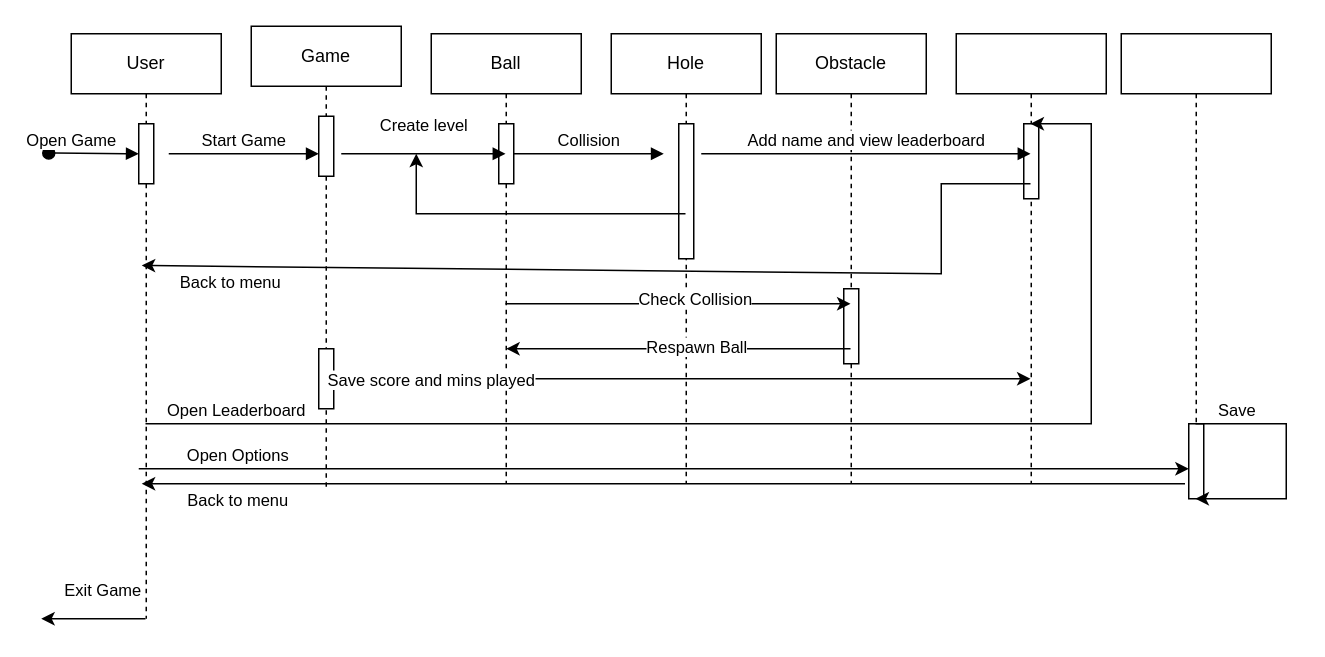
Image size: 1325x657. Some labels were removed from this diagram. The box of each missing label's shape, as (x1, y1, x2, y2) in pixels:
Leaderboard: (955, 32, 1106, 484)
Options: (1120, 32, 1271, 484)
